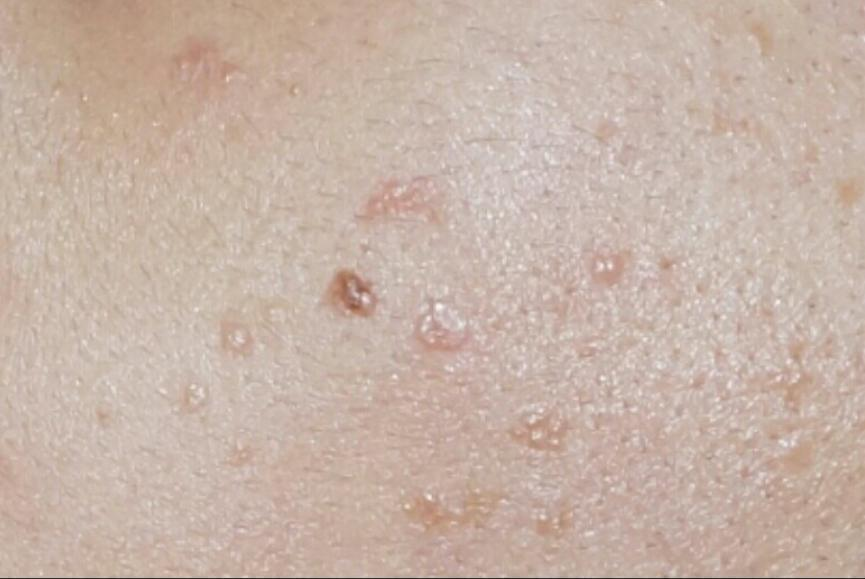flat_wart: (411, 313, 511, 363), (194, 382, 236, 425), (220, 336, 280, 364)
sebo-crystan-conglo: (317, 277, 386, 329)
whitehead: (521, 404, 585, 466), (597, 241, 642, 284), (519, 508, 560, 555), (398, 478, 452, 511)
